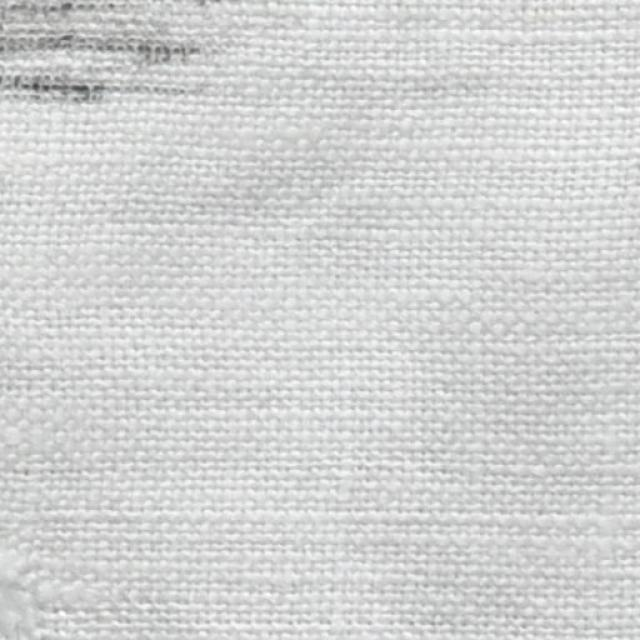Stain: (0, 0, 212, 111), (0, 552, 45, 639)
